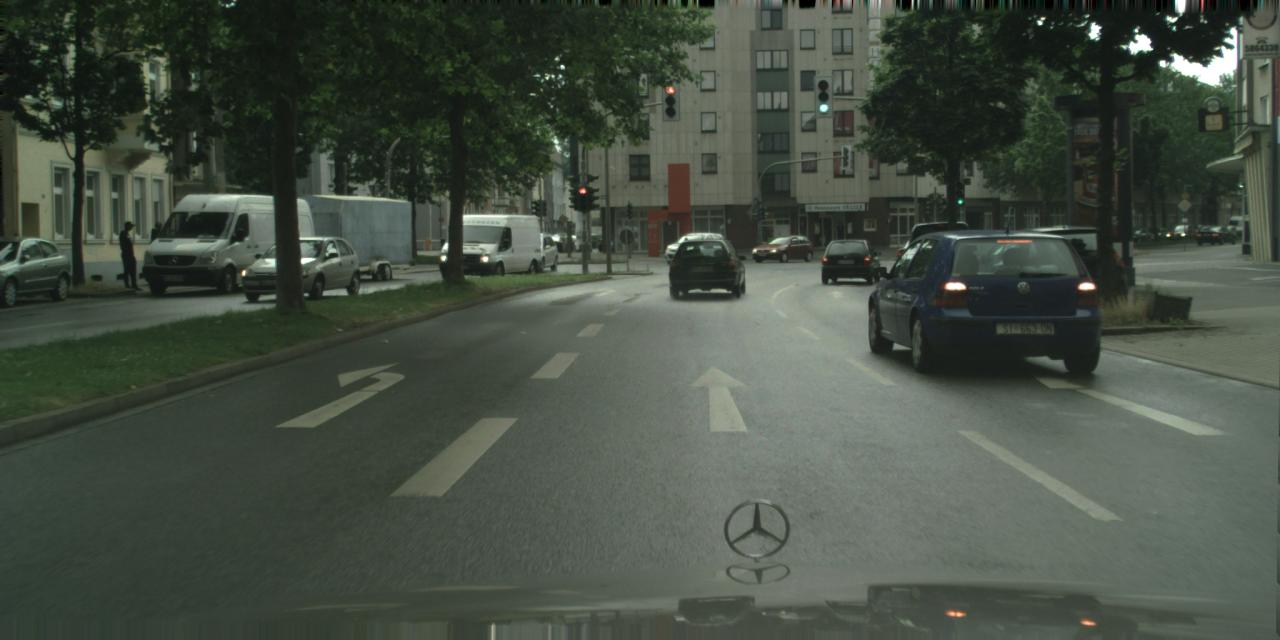ped: (116, 221, 142, 287), (144, 221, 168, 278)
